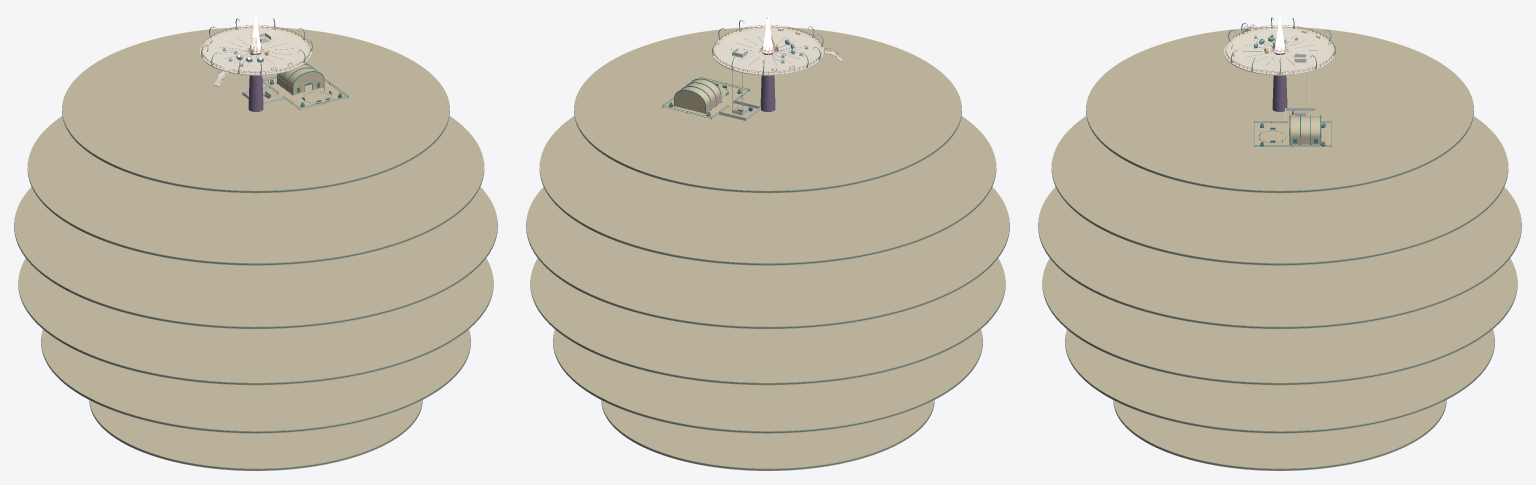
Rendered from ship_commons_blockout.glb.
3 renders of one model, left to right at view 1: azimuth 30°, elevation 25°; view 2: azimuth 150°, elevation 25°; view 3: azimuth 270°, elevation 25°, orthographic.
Parts seen in each view (by area): view 1: Deck 01 top 57m, Deck 02 top 32m, Deck 03 top 7m, Deck 04 top -18m, Deck 05 top -43m, Deck 06 top -68m, COMMONS_floor_paving, Deck 04 edge, Deck 03 edge, Deck 02 edge, deck_floor_fill, Deck 05 edge (+2 smaller); view 2: Deck 01 top 57m, Deck 02 top 32m, Deck 03 top 7m, Deck 04 top -18m, Deck 05 top -43m, Deck 06 top -68m, COMMONS_floor_paving, Deck 04 edge, Deck 03 edge, Deck 02 edge, deck_floor_fill, Deck 05 edge (+2 smaller); view 3: Deck 01 top 57m, Deck 02 top 32m, Deck 03 top 7m, Deck 04 top -18m, Deck 05 top -43m, Deck 06 top -68m, COMMONS_floor_paving, Deck 03 edge, Deck 04 edge, deck_floor_fill, Deck 02 edge, COMMONS_vault_roof (+3 smaller).
Boxes of the visible parts, x1,y1,x2,y2 form: Deck 01 top 57m: (62, 27, 449, 193); Deck 02 top 32m: (27, 96, 484, 265); Deck 03 top 7m: (14, 187, 497, 328); Deck 04 top -18m: (18, 258, 493, 385); Deck 05 top -43m: (41, 329, 470, 433); Deck 06 top -68m: (89, 400, 422, 470); COMMONS_floor_paving: (262, 79, 347, 110); Deck 04 edge: (18, 279, 493, 384); Deck 03 edge: (14, 217, 497, 328); Deck 02 edge: (27, 163, 484, 264); deck_floor_fill: (199, 27, 311, 74); Deck 05 edge: (41, 335, 470, 432); Deck 01 top 57m: (574, 27, 961, 193); Deck 02 top 32m: (539, 116, 996, 265); Deck 03 top 7m: (526, 187, 1009, 328); Deck 04 top -18m: (530, 258, 1005, 385); Deck 05 top -43m: (553, 329, 982, 433); Deck 06 top -68m: (601, 400, 934, 470); COMMONS_floor_paving: (663, 84, 749, 119); Deck 04 edge: (530, 279, 1005, 384); Deck 03 edge: (526, 217, 1009, 328); Deck 02 edge: (539, 163, 996, 264); deck_floor_fill: (711, 27, 823, 74); Deck 05 edge: (553, 335, 982, 432); Deck 01 top 57m: (1086, 27, 1473, 193); Deck 02 top 32m: (1051, 116, 1508, 265); Deck 03 top 7m: (1038, 187, 1521, 328); Deck 04 top -18m: (1042, 258, 1517, 385); Deck 05 top -43m: (1065, 329, 1494, 433); Deck 06 top -68m: (1113, 400, 1446, 470); COMMONS_floor_paving: (1254, 124, 1330, 147); Deck 03 edge: (1038, 223, 1521, 328); Deck 04 edge: (1042, 279, 1517, 384); deck_floor_fill: (1223, 27, 1336, 74); Deck 02 edge: (1051, 163, 1508, 264); COMMONS_vault_roof: (1290, 116, 1320, 136).
Size of the model in its own units: 189 by 178 by 189.
